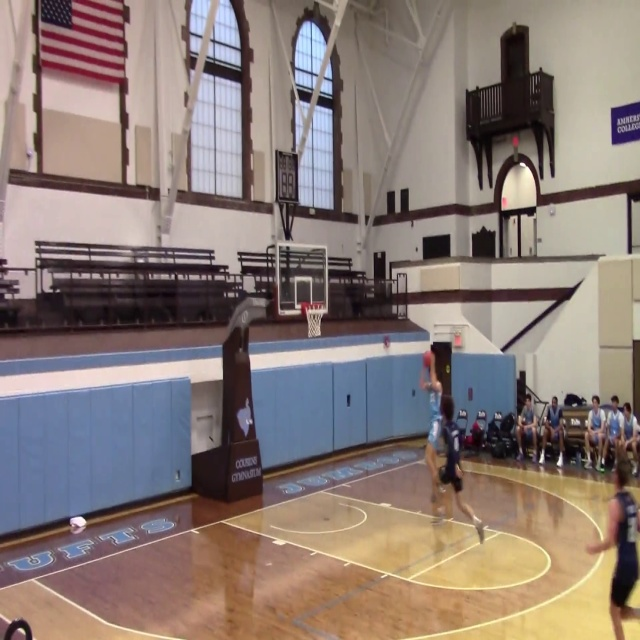Basketball: (69, 516, 87, 534), (70, 516, 86, 529), (422, 351, 433, 367)
